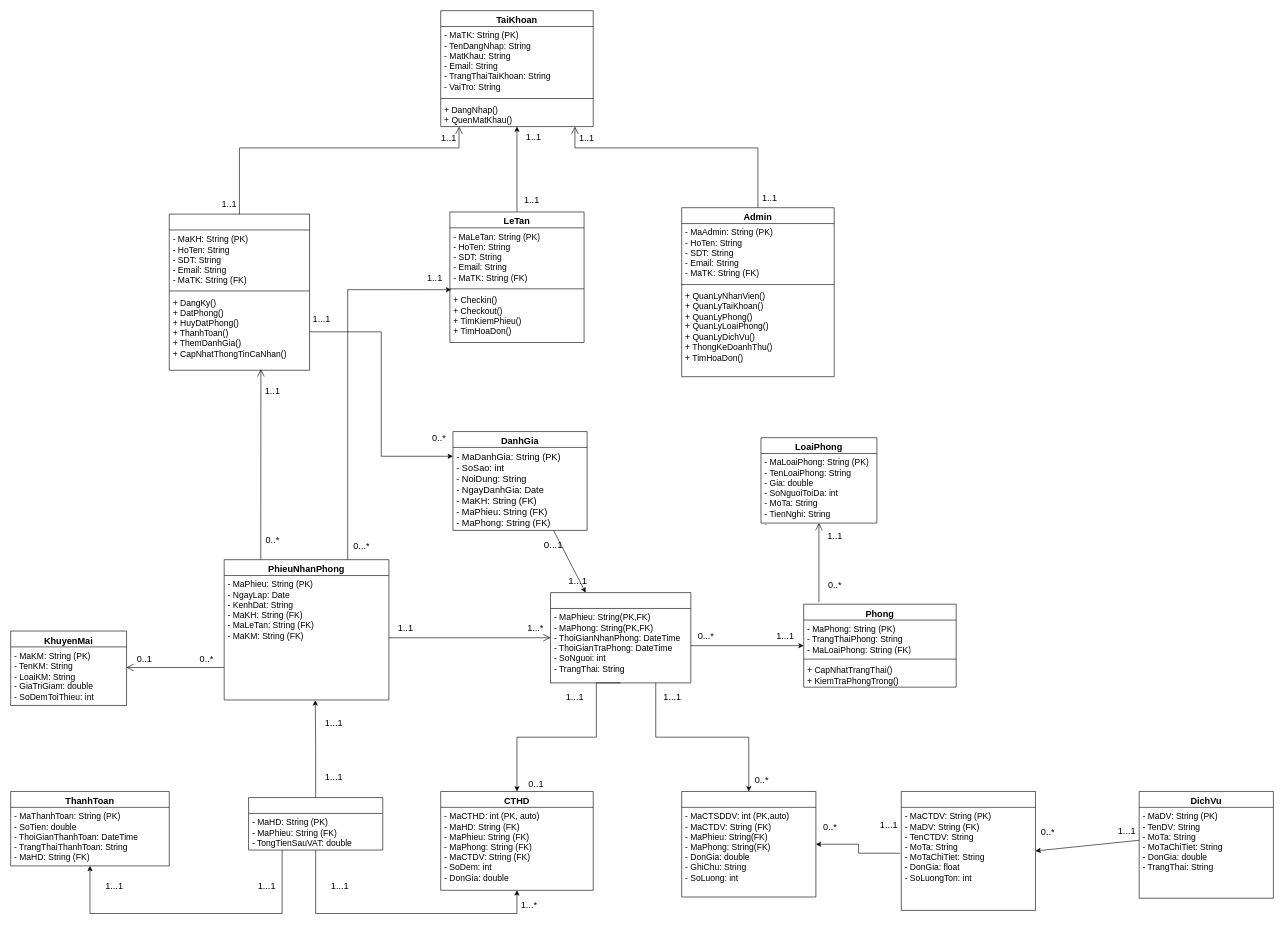
The diagram is 1284 pixels wide and 929 high, and some of its shapes have lost their labels. The box of each missing label's shape, as (x1, y1, x2, y2) in pixels:
ChiTietDichVu: (901, 791, 1035, 910)
ChiTietPhieuNhanPhong: (550, 592, 691, 683)
CTSuDungDichVu: (681, 791, 816, 897)
HoaDon: (248, 797, 383, 850)
KhachHang: (169, 214, 310, 370)
